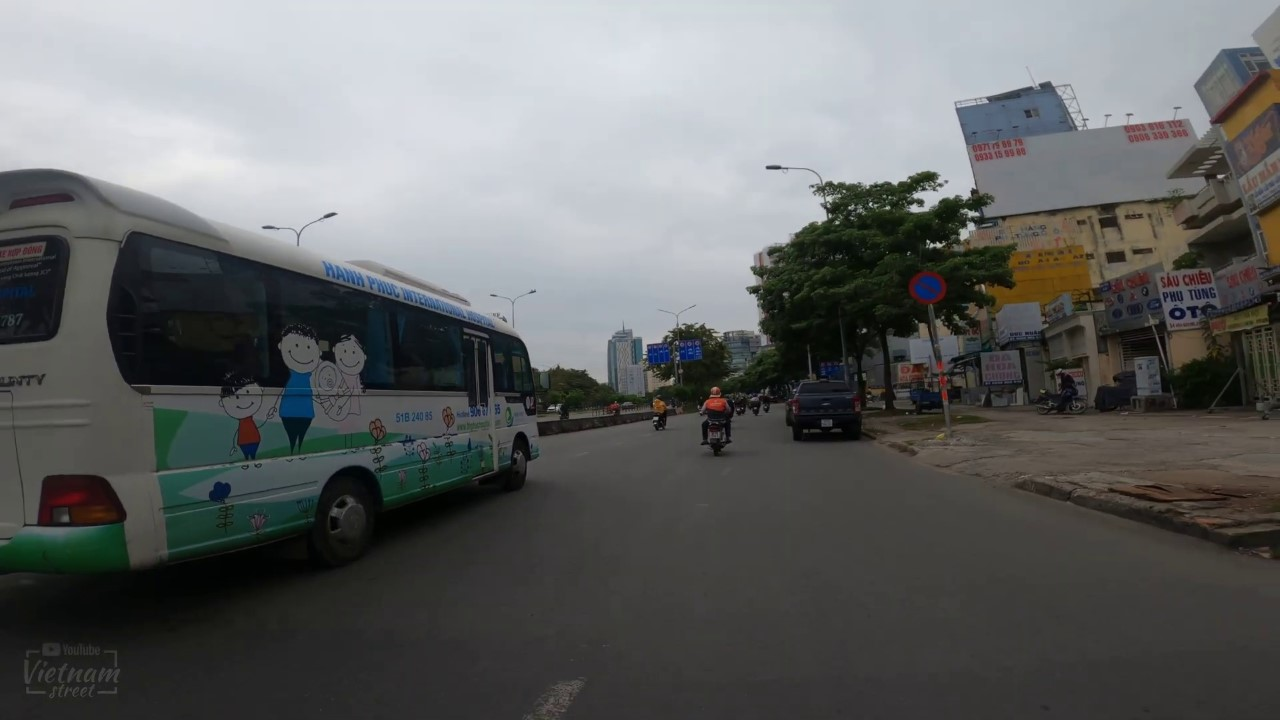cam_do_xe: (909, 271, 947, 305)
